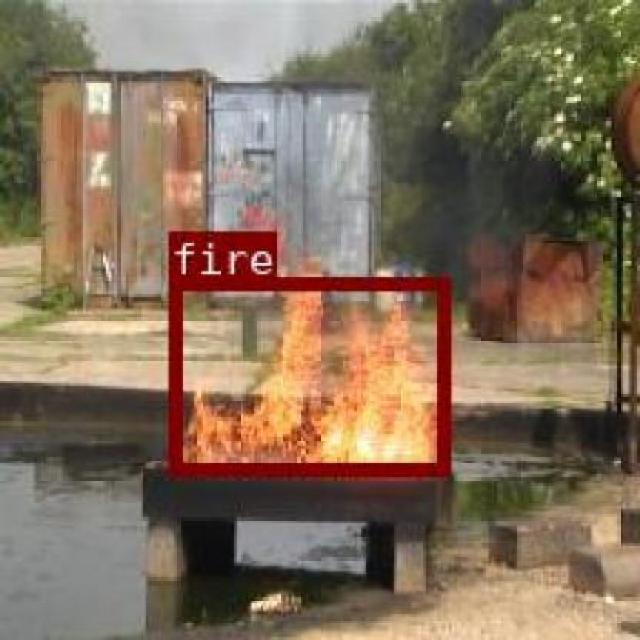Fire: (166, 274, 446, 474)
